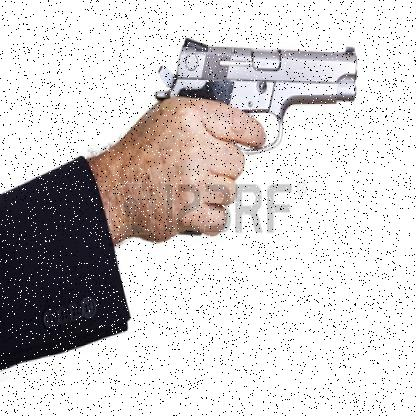pistol: (146, 27, 361, 240)
